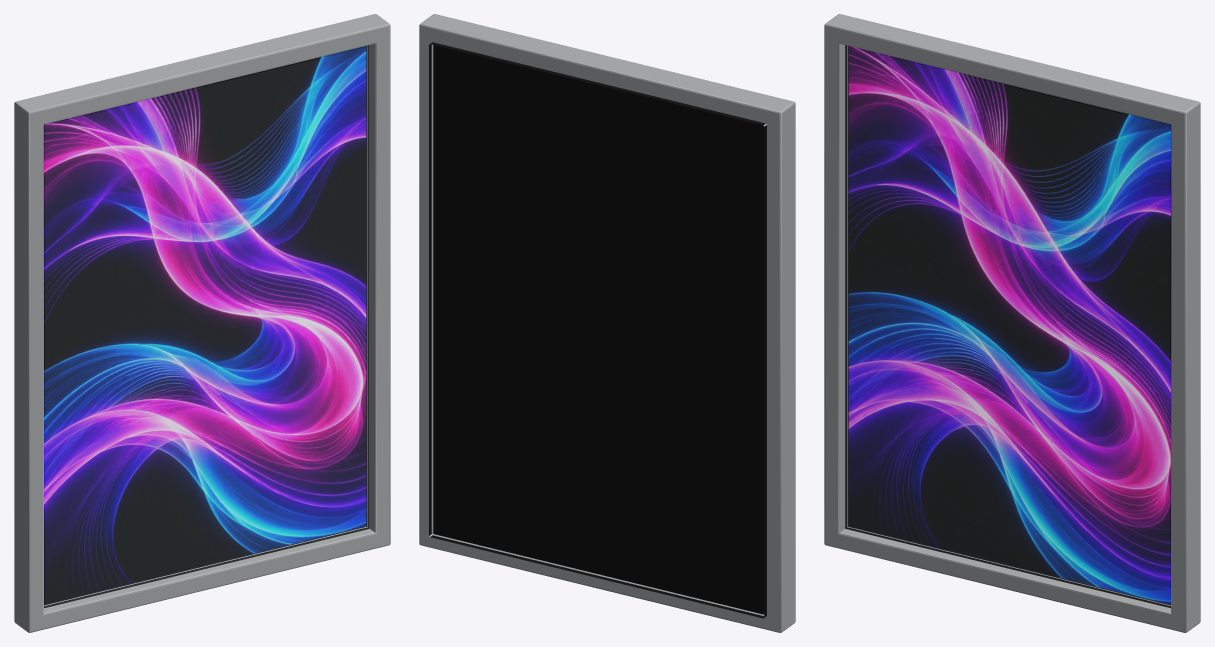
The model's file is gteki_poster_lightbox_08.glb.
The picture shows the model from 3 angles, left to right: view 1: azimuth 30°, elevation 25°; view 2: azimuth 150°, elevation 25°; view 3: azimuth 330°, elevation 25°; orthographic projection.
Visible parts, largest first — view 1: VIS_body; view 2: VIS_body; view 3: VIS_body.
Part boxes in pixels (box(x1,y1,x2,y2)): VIS_body: box(14, 14, 390, 632); VIS_body: box(419, 14, 795, 632); VIS_body: box(824, 14, 1200, 632).
Size of what is drawn, in the model's own units: 0.8 by 1.1 by 0.07.
3 materials, 3 textured.
